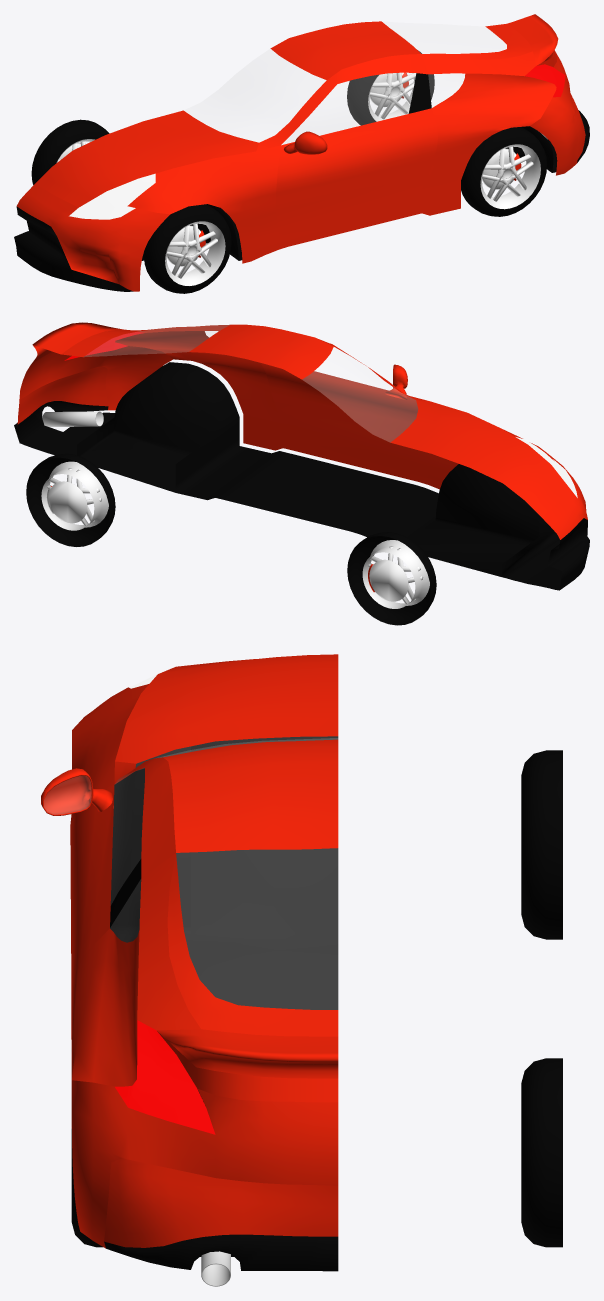
File: car.glb
3 views of the same model, one above another, from view 1: azimuth 30°, elevation 25°; view 2: azimuth 150°, elevation 25°; view 3: azimuth 270°, elevation 25° (orthographic). The views are drawn at different scales.
Visible parts, largest first — view 1: door, hood, front fende, rear fneder, front bumper, windshield, roof, door window, wheel, wheel.001, grille, rear window (+23 smaller); view 2: bottom bit, door, hood, windshield, rear fneder, roof, rear bumper, wheel.003, wheel.002, rear window, side skirt, rear bumper bit (+15 smaller); view 3: bottom bit, rear window, rear bumper, roof, hood, rear bumper bit, rear fneder, wheel.003, wheel.002, wing, trunk, trunk bit (+11 smaller).
Part boxes in pixels (<box>): door: <box>276,108,437,242</box>; hood: <box>35,110,258,207</box>; front fende: <box>127,145,280,252</box>; rear fneder: <box>422,73,556,189</box>; front bumper: <box>17,183,169,291</box>; windshield: <box>184,49,325,141</box>; roof: <box>270,21,420,80</box>; door window: <box>282,73,415,144</box>; wheel: <box>144,204,231,293</box>; wheel.001: <box>461,127,547,216</box>; grille: <box>14,206,133,291</box>; rear window: <box>382,21,506,53</box>; bottom bit: <box>20,362,562,590</box>; door: <box>260,362,430,477</box>; hood: <box>390,400,569,516</box>; windshield: <box>302,347,417,441</box>; rear fneder: <box>115,331,282,423</box>; roof: <box>189,324,333,379</box>; rear bumper: <box>19,346,172,410</box>; wheel.003: <box>26,453,115,546</box>; wheel.002: <box>347,532,436,625</box>; rear window: <box>84,325,228,356</box>; side skirt: <box>243,414,442,489</box>; rear bumper bit: <box>17,366,108,424</box>; bottom bit: <box>110,746,338,1256</box>; rear window: <box>176,848,337,1009</box>; rear bumper: <box>71,1080,338,1248</box>; roof: <box>163,739,338,852</box>; hood: <box>115,654,338,763</box>; rear bumper bit: <box>104,1158,338,1247</box>; rear fneder: <box>71,928,139,1086</box>; wheel.003: <box>521,1058,562,1247</box>; wheel.002: <box>521,750,562,939</box>; wing: <box>157,1029,338,1078</box>; trunk: <box>167,854,338,1036</box>; trunk bit: <box>137,853,200,1030</box>.
Size of the model in its own units: 4.28 by 1.3 by 1.79.
